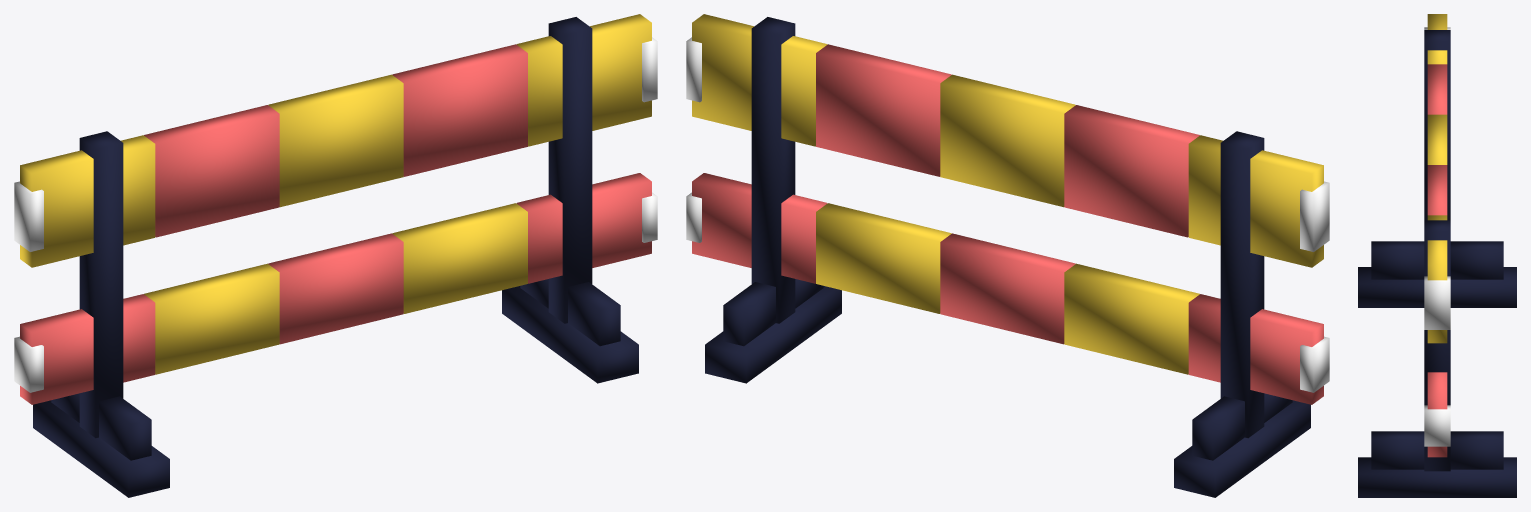
File: barricade_low.glb
3 views of the same model, side by side, from view 1: azimuth 30°, elevation 25°; view 2: azimuth 150°, elevation 25°; view 3: azimuth 270°, elevation 25° (orthographic). The views are drawn at different scales.
Visible parts, largest first — view 1: barricade_low; view 2: barricade_low; view 3: barricade_low.
Boxes of the visible parts, x1,y1,x2,y2 form: barricade_low: [14, 14, 657, 497]; barricade_low: [686, 14, 1329, 497]; barricade_low: [1358, 14, 1516, 497].
Bounding box in the file's own units: 1.82 × 0.88 × 0.48.
